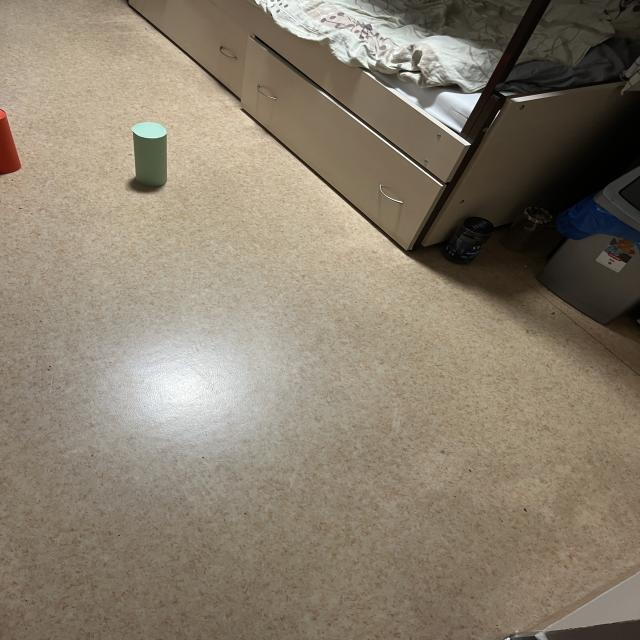meta: (132, 122, 167, 186)
